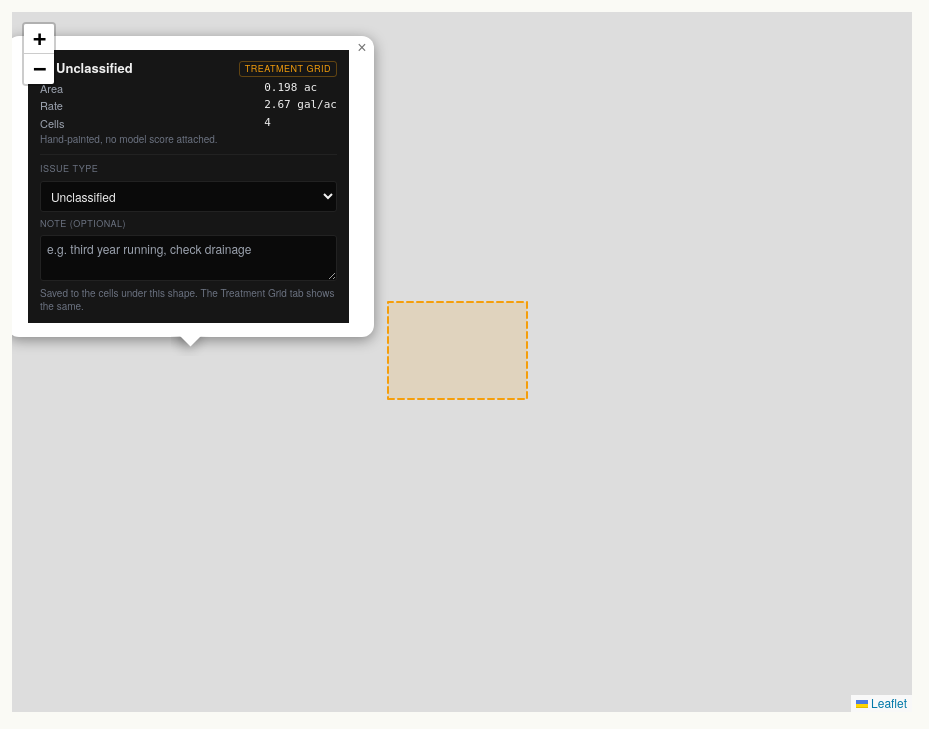
Test: what the controls do › relabels the zone without waiting for the round trip
Select "Waterlogging" in the dropdown: (188, 196) [40,181,337,212]
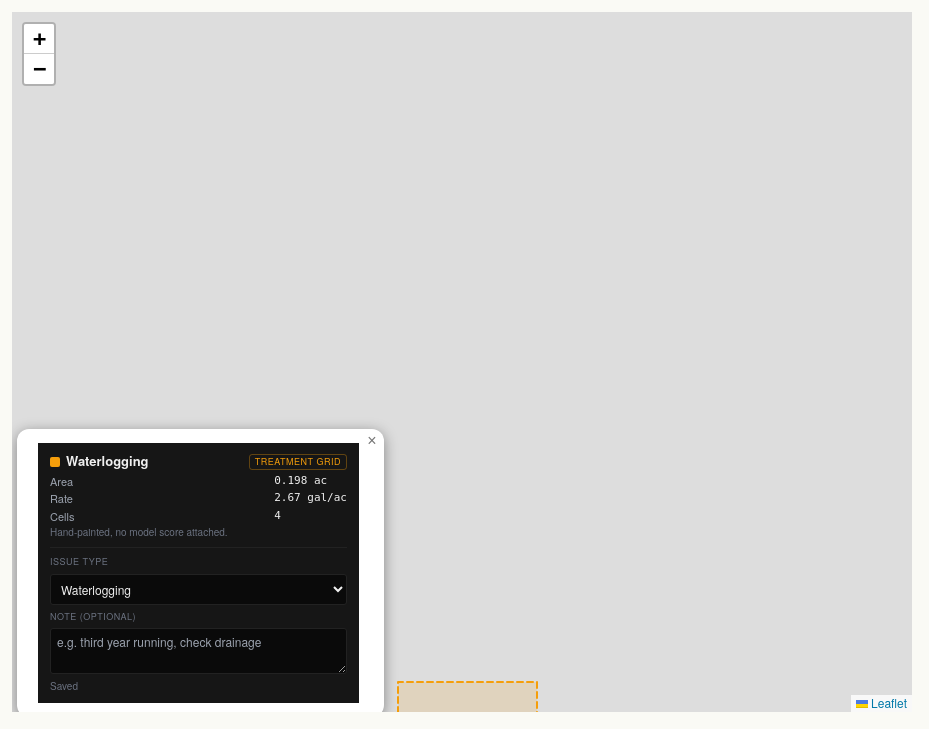
Expected: the text "Waterlogging" is shown, [66,453,148,470]
